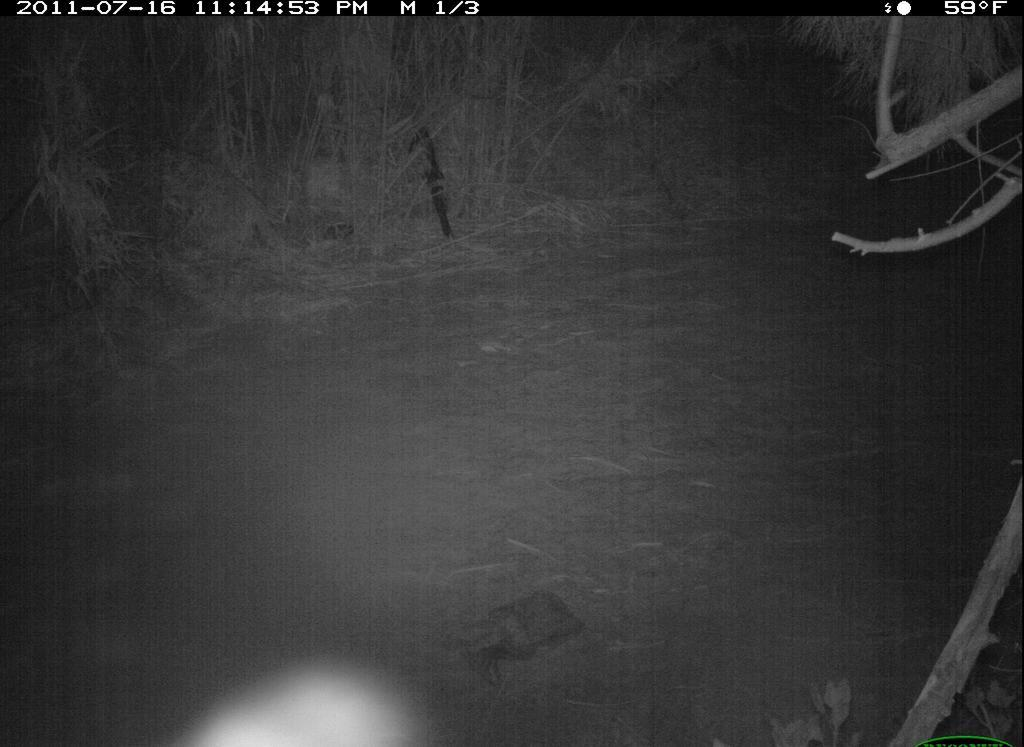raccoon: (125, 609, 466, 743)
